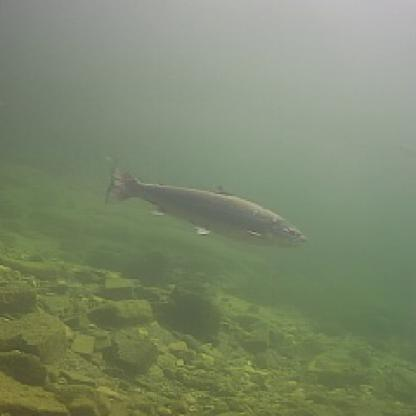salmon: (99, 149, 308, 250)
